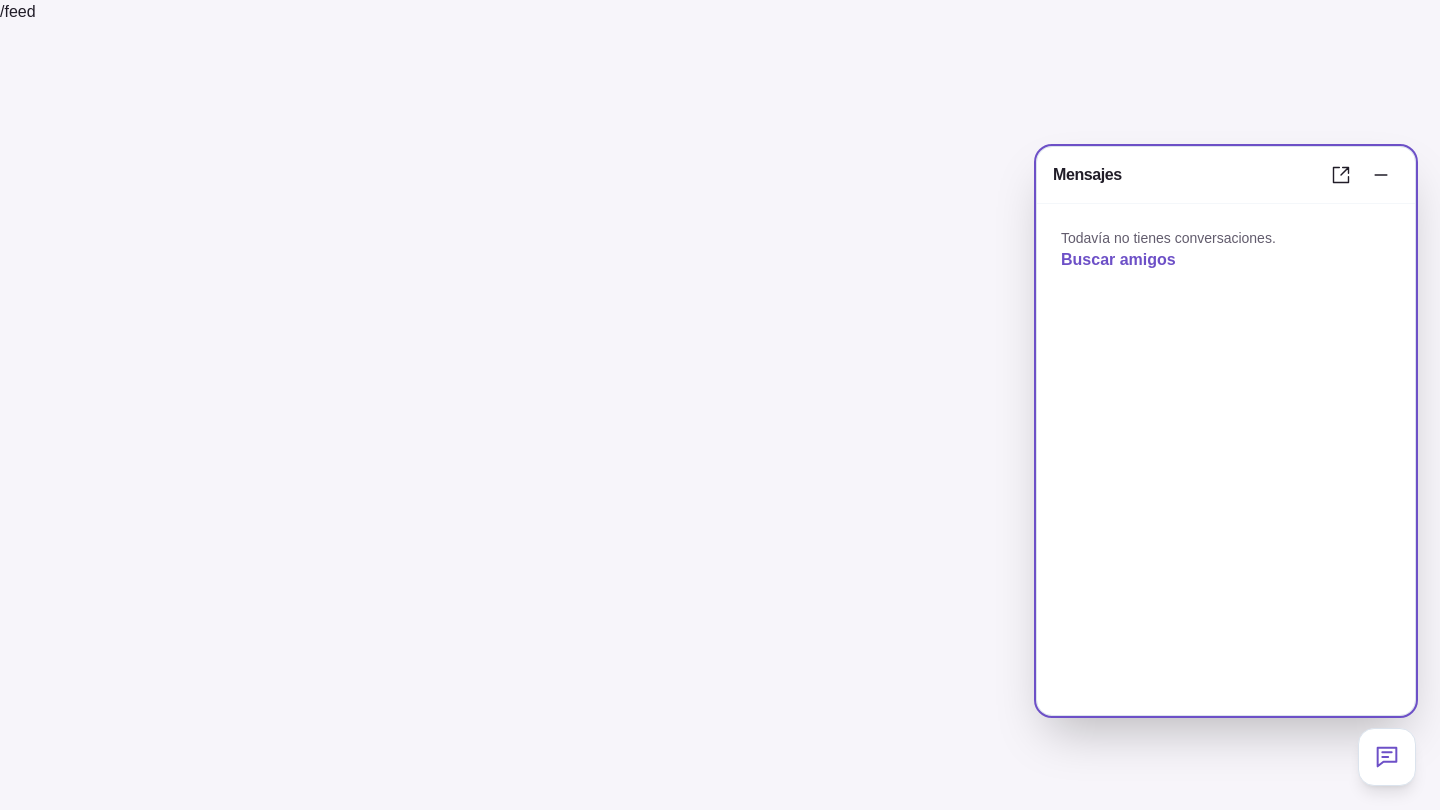
Test: opens Amigos and closes the floating panel from its empty state
Expected: the dialog "Mensajes" is shown, [1036,146,1416,716]
What coordinates should you click on to do the following:
click the link "Buscar amigos"
I would click on:
 (1118, 260)
Its box is [1061,251,1176,268].
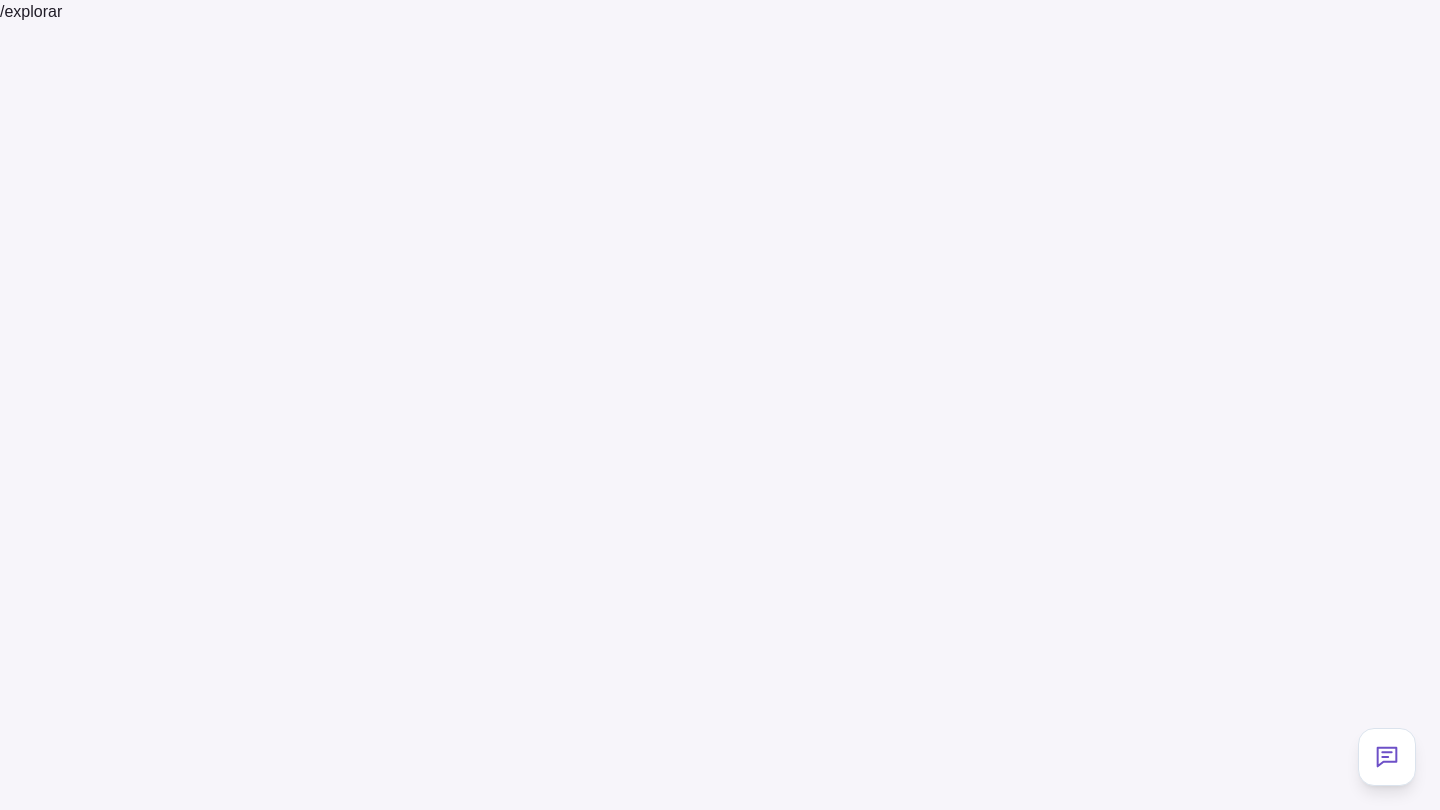
Result: the text with test id "location" reads "/explorar" at [0,3,62,20]
Result: the heading "Mensajes" is gone
